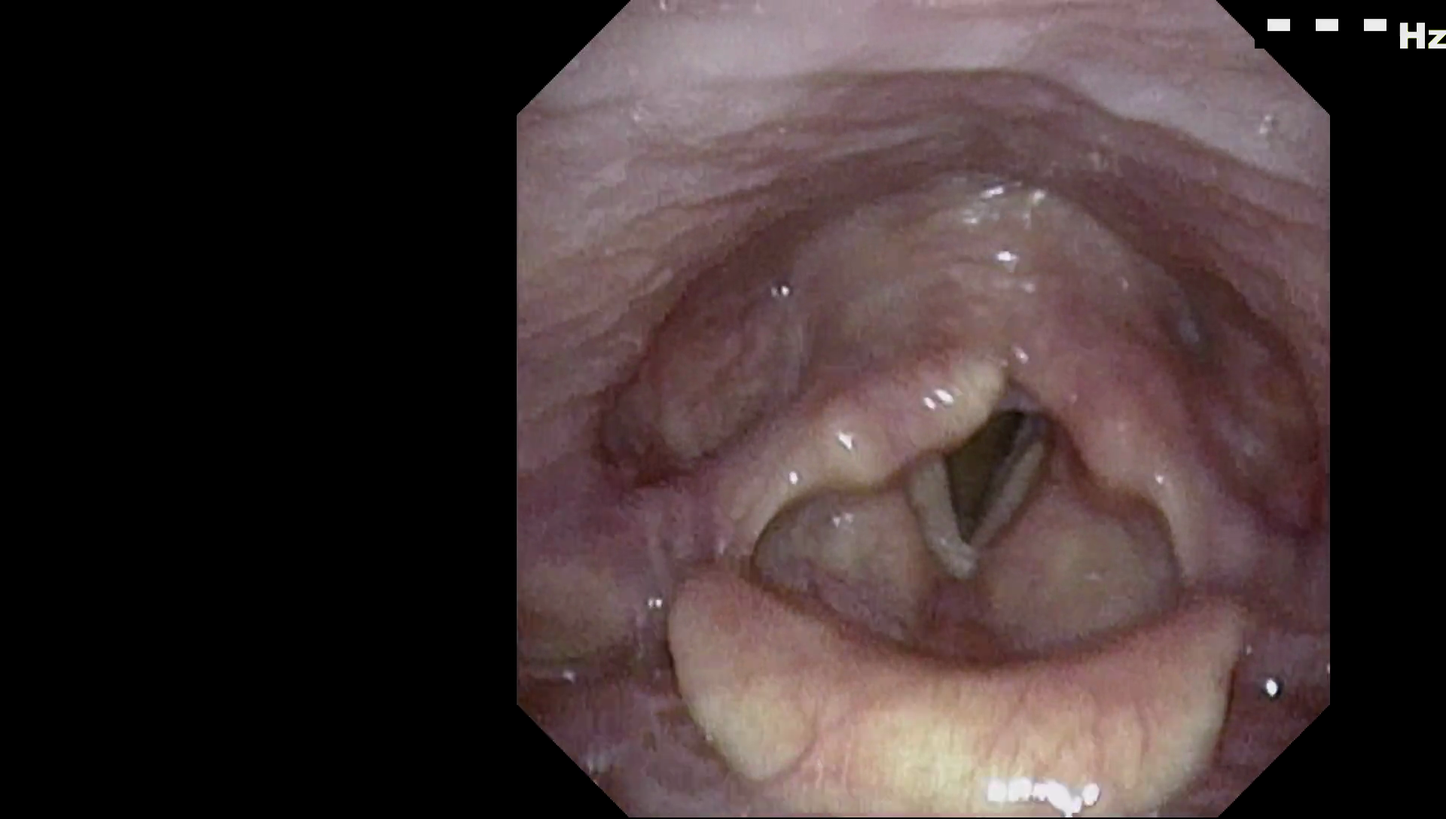trachea: (897, 382, 1071, 593)
